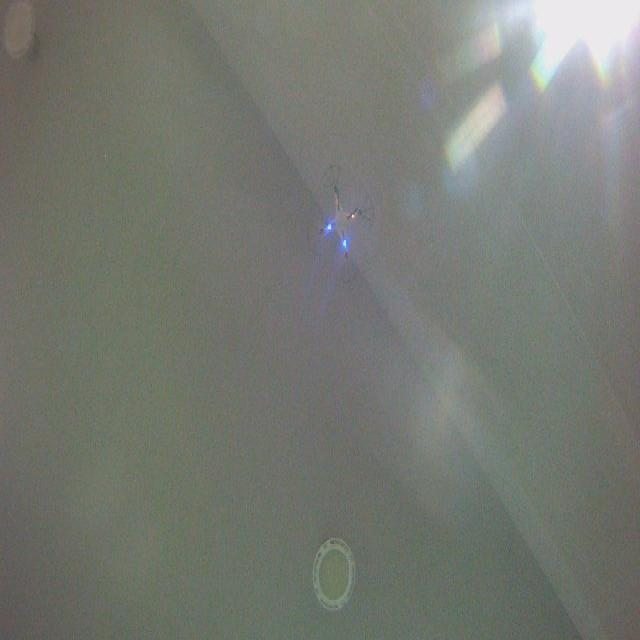drone: (305, 166, 377, 286)
